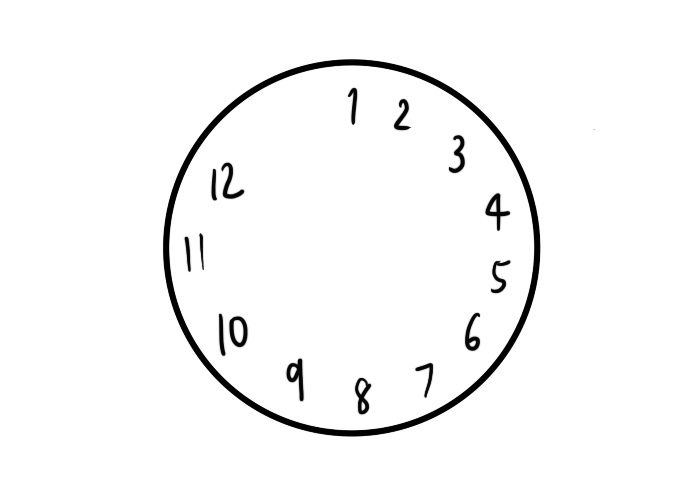eight: (352, 372, 372, 416)
eleven: (182, 229, 209, 275)
five: (488, 255, 511, 298)
four: (482, 189, 511, 233)
nine: (284, 356, 309, 404)
one: (344, 81, 359, 127)
seven: (412, 359, 435, 400)
six: (464, 309, 485, 355)
ten: (216, 309, 249, 356)
three: (445, 131, 467, 176)
twelve: (205, 160, 246, 204)
two: (391, 93, 411, 132)
